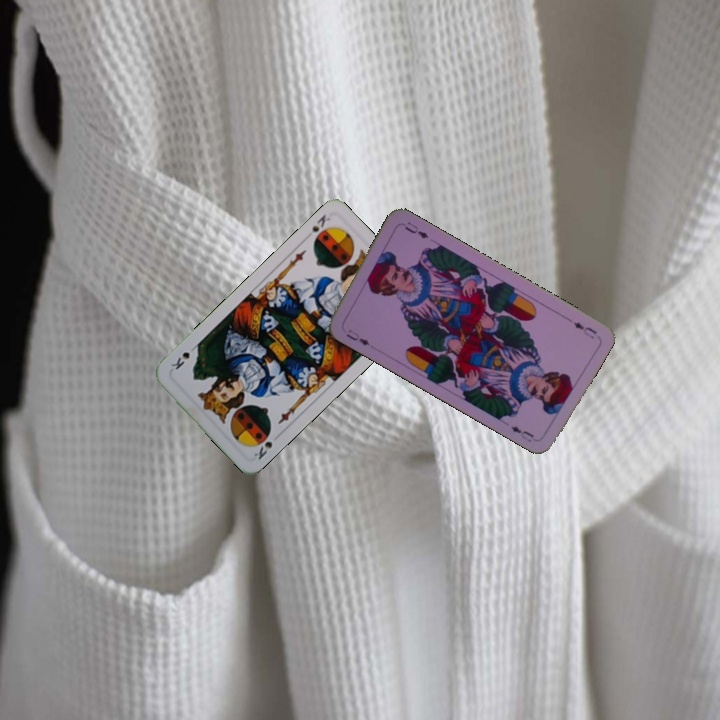EU: (342, 325, 372, 348), (569, 318, 599, 341)
SK: (302, 210, 333, 242), (250, 427, 275, 462)
